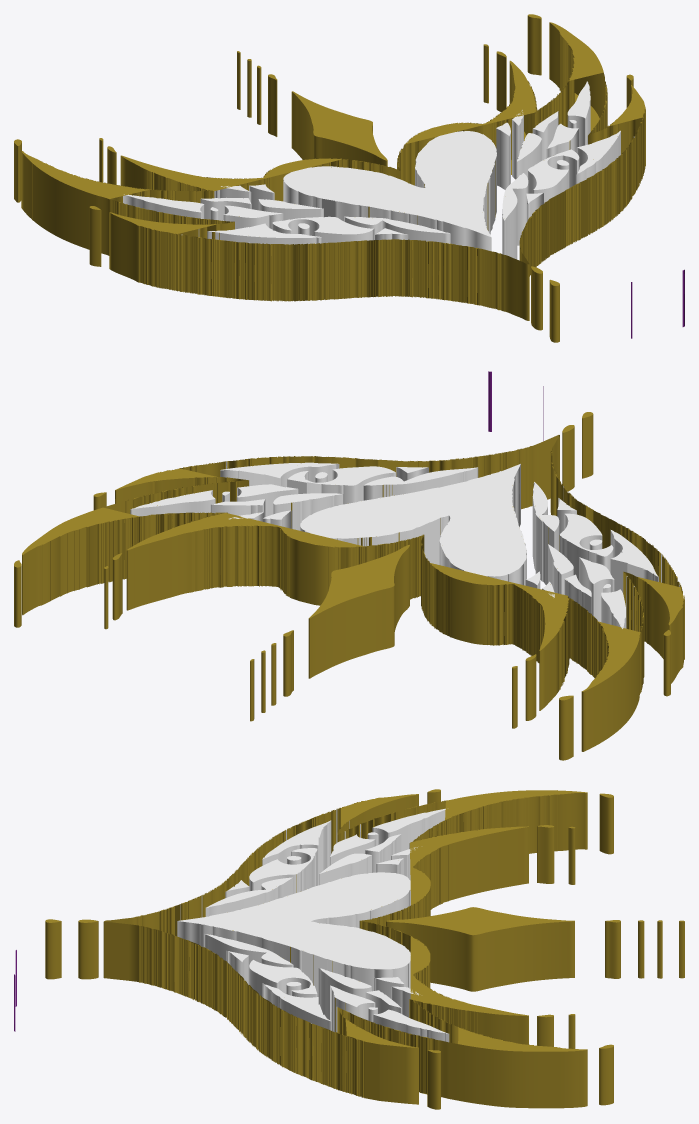
Rendered from mom.gltf.
The picture shows the model from 3 angles, top to bottom: view 1: azimuth 30°, elevation 25°; view 2: azimuth 150°, elevation 25°; view 3: azimuth 270°, elevation 25°; orthographic projection. The views are drawn at different scales.
Visible parts, largest first — view 1: Curve.001, Curve.018, Curve.089, Curve.081, Curve.075, Curve.008, Curve.083, Curve.062, Curve.070, Curve.060, Curve.077, Curve.054 (+16 smaller); view 2: Curve.001, Curve.018, Curve.009, Curve.008, Curve.062, Curve.060, Curve.070, Curve.056, Curve.072, Curve.089, Curve.011, Curve.054 (+7 smaller); view 3: Curve.001, Curve.018, Curve.089, Curve.008, Curve.060, Curve.009, Curve.054, Curve.062, Curve.072, Curve.056, Curve.070, Curve.042 (+12 smaller).
Boxes of the visible parts, x1=… form: Curve.001: x1=14, y1=14, x2=645, y2=320; Curve.018: x1=283, y1=131, x2=496, y2=251; Curve.089: x1=457, y1=228, x2=559, y2=342; Curve.081: x1=326, y1=180, x2=586, y2=299; Curve.075: x1=250, y1=152, x2=624, y2=301; Curve.008: x1=123, y1=81, x2=590, y2=218; Curve.083: x1=381, y1=201, x2=547, y2=297; Curve.062: x1=528, y1=149, x2=579, y2=203; Curve.070: x1=502, y1=173, x2=528, y2=259; Curve.060: x1=272, y1=216, x2=374, y2=243; Curve.077: x1=292, y1=167, x2=606, y2=301; Curve.054: x1=207, y1=223, x2=321, y2=244; Curve.001: x1=14, y1=435, x2=684, y2=760; Curve.018: x1=300, y1=464, x2=526, y2=585; Curve.009: x1=93, y1=492, x2=670, y2=696; Curve.008: x1=130, y1=490, x2=625, y2=628; Curve.062: x1=287, y1=466, x2=395, y2=504; Curve.060: x1=560, y1=513, x2=613, y2=581; Curve.070: x1=363, y1=467, x2=477, y2=500; Curve.056: x1=220, y1=462, x2=339, y2=486; Curve.072: x1=532, y1=482, x2=559, y2=584; Curve.089: x1=484, y1=412, x2=593, y2=491; Curve.011: x1=128, y1=500, x2=642, y2=684; Curve.054: x1=610, y1=530, x2=658, y2=592; Curve.001: x1=103, y1=790, x2=684, y2=1108; Curve.018: x1=177, y1=872, x2=410, y2=996; Curve.089: x1=45, y1=905, x2=180, y2=993; Curve.008: x1=372, y1=808, x2=449, y2=1042; Curve.060: x1=249, y1=848, x2=317, y2=893; Curve.009: x1=427, y1=789, x2=448, y2=1109; Curve.054: x1=262, y1=820, x2=331, y2=885; Curve.062: x1=249, y1=960, x2=317, y2=997; Curve.072: x1=205, y1=877, x2=292, y2=916; Curve.056: x1=263, y1=983, x2=331, y2=1030; Curve.070: x1=205, y1=934, x2=293, y2=984; Curve.042: x1=318, y1=968, x2=371, y2=1019.
Bounding box in the file's own units: 4.43 × 0.4431 × 4.76.
